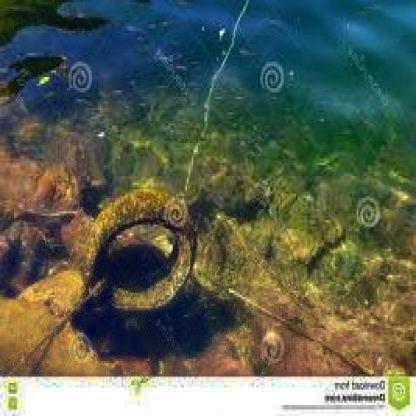tire: (70, 174, 210, 321)
